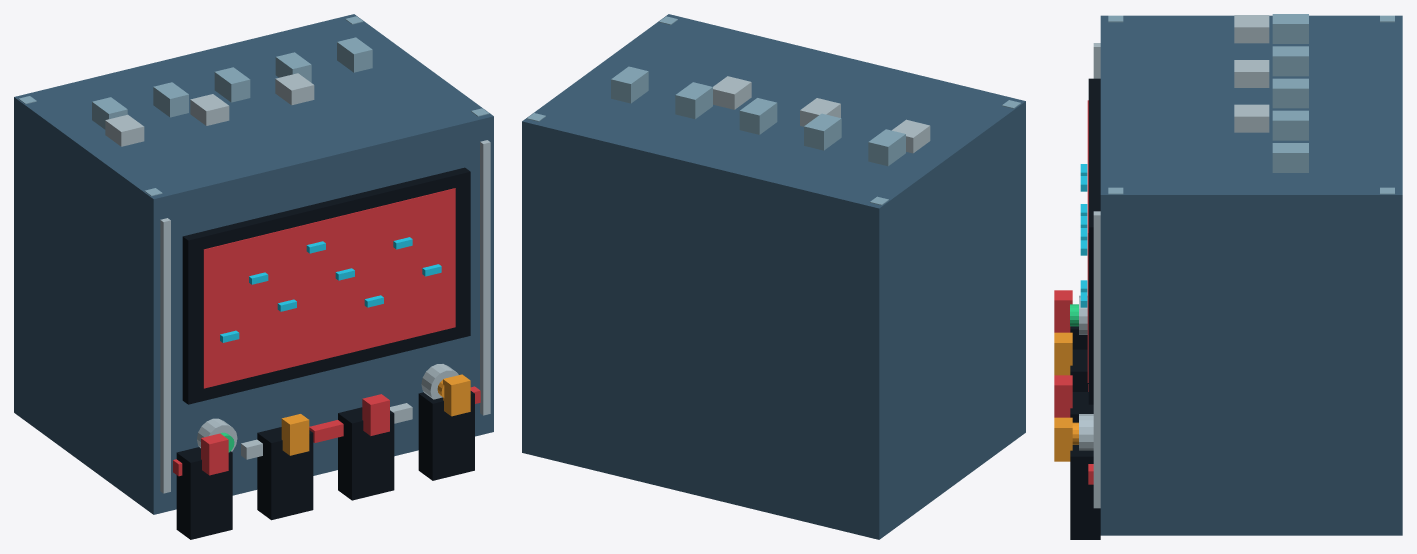
The model's file is 47_L72_PurgeInterlockProtectionRelay.fbx.
3 views of the same model, side by side, from view 1: azimuth 30°, elevation 25°; view 2: azimuth 150°, elevation 25°; view 3: azimuth 270°, elevation 25° (orthographic). The views are drawn at different scales.
Visible parts, largest first — view 1: PurgeInterlockProtectionRelay; view 2: PurgeInterlockProtectionRelay; view 3: PurgeInterlockProtectionRelay.
Boxes of the visible parts, x1,y1,x2,y2 form: PurgeInterlockProtectionRelay: (14,14,493,539); PurgeInterlockProtectionRelay: (522,14,1025,539); PurgeInterlockProtectionRelay: (1054,14,1402,539).
Size of the model in its own units: 97 by 96.54 by 79.6.
